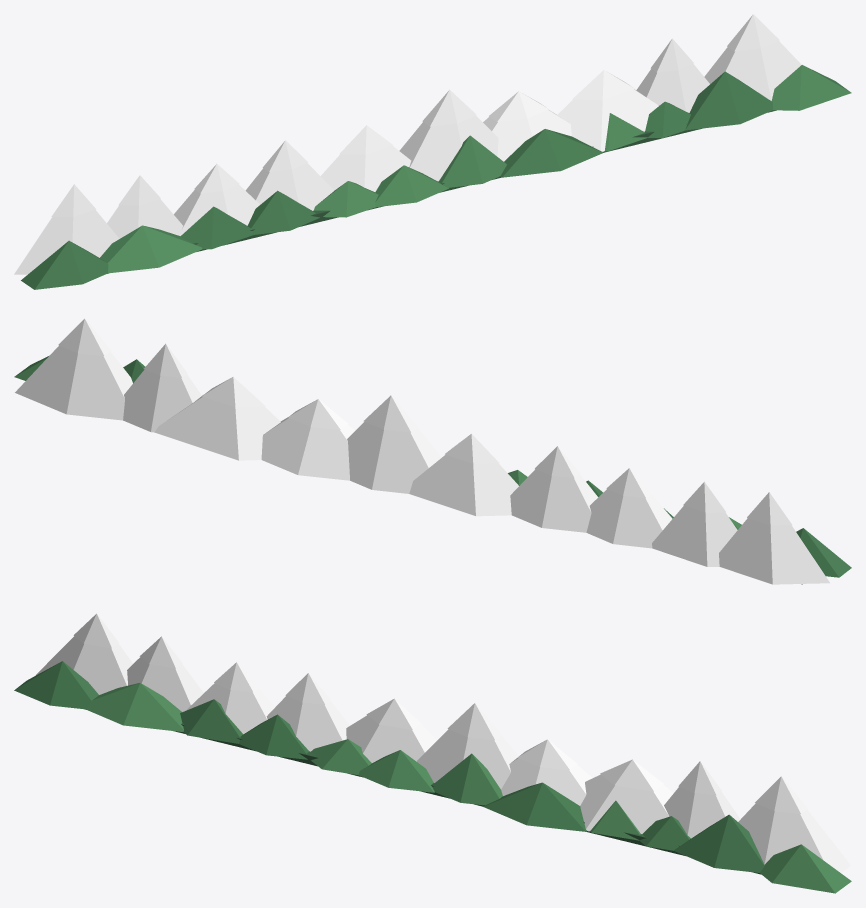
File: backdrop_day.glb
3 views of the same model, one above another, from view 1: azimuth 30°, elevation 25°; view 2: azimuth 150°, elevation 25°; view 3: azimuth 330°, elevation 25° (orthographic).
Visible parts, largest first — view 1: backdrop_day; view 2: backdrop_day; view 3: backdrop_day.
Part boxes in pixels (box(x1,y1,x2,y2)): backdrop_day: box(14, 14, 851, 289); backdrop_day: box(14, 318, 851, 584); backdrop_day: box(14, 613, 851, 893).
Bounding box in the file's own units: 320 × 32 × 36.
Materials: 2 (1 with a texture image).
